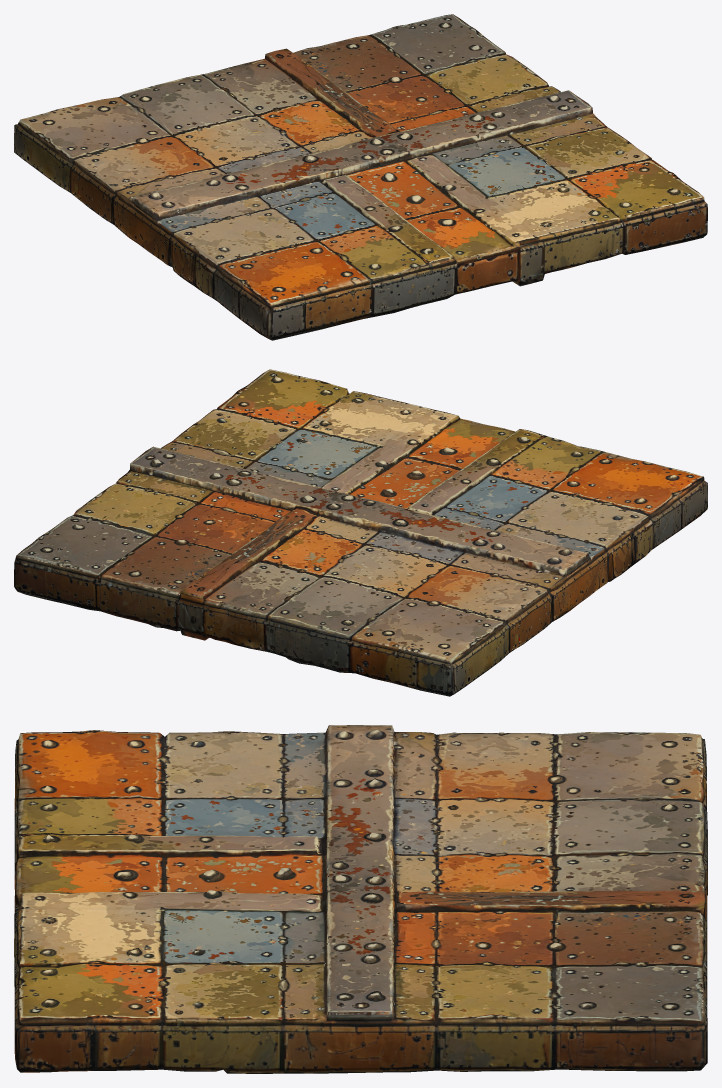
File: Settle_RoofPatch_Metal.fbx
The picture shows the model from 3 angles, top to bottom: view 1: azimuth 30°, elevation 25°; view 2: azimuth 150°, elevation 25°; view 3: azimuth 270°, elevation 25°; orthographic projection. The views are drawn at different scales.
Parts seen in each view (by area): view 1: texture_mapping; view 2: texture_mapping; view 3: texture_mapping.
Boxes of the visible parts, bbox=[...] form: texture_mapping: bbox=[14, 14, 707, 340]; texture_mapping: bbox=[14, 369, 707, 696]; texture_mapping: bbox=[14, 725, 707, 1073].
Size of the model in its own units: 0.9974 by 0.9987 by 0.1216.
1 material, 1 textured.
